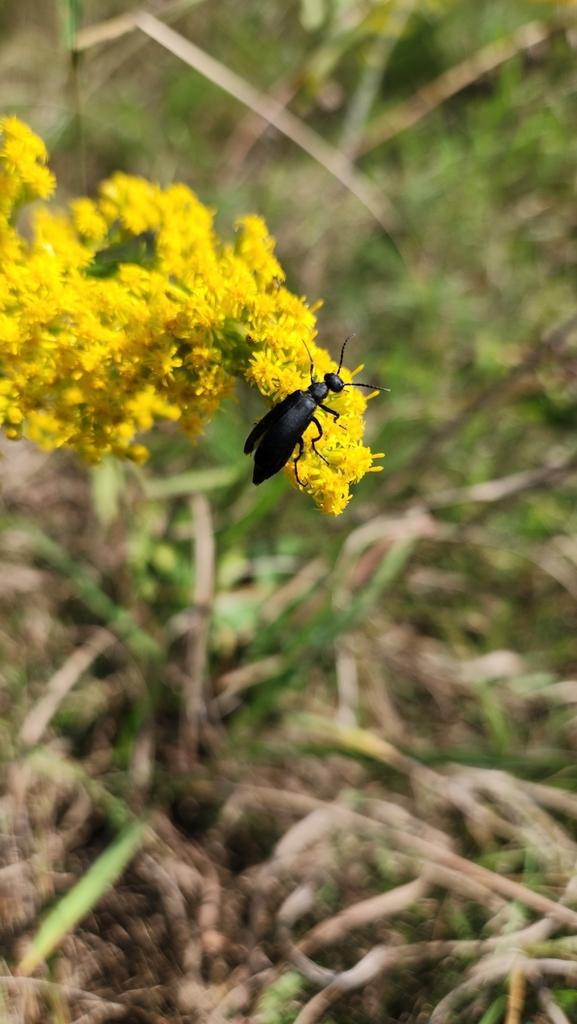blister_beetle: (200, 300, 402, 514)
